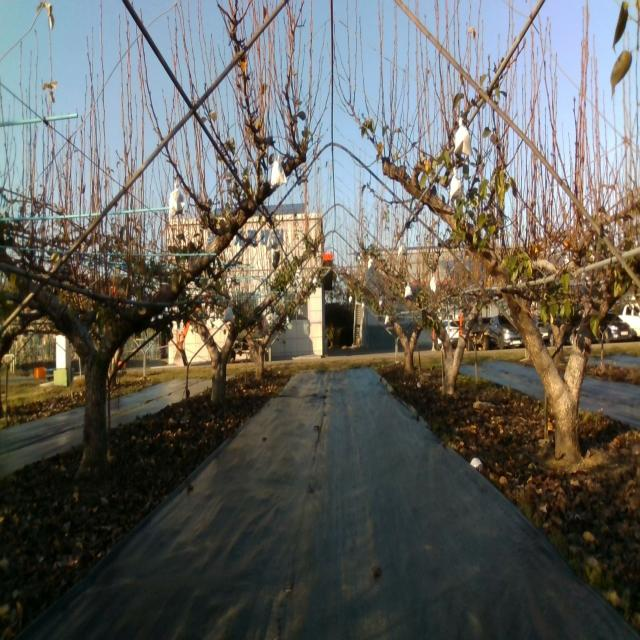pearbags: (454, 117, 473, 154), (270, 156, 287, 189), (170, 183, 184, 216), (450, 165, 463, 200), (223, 304, 234, 323)
